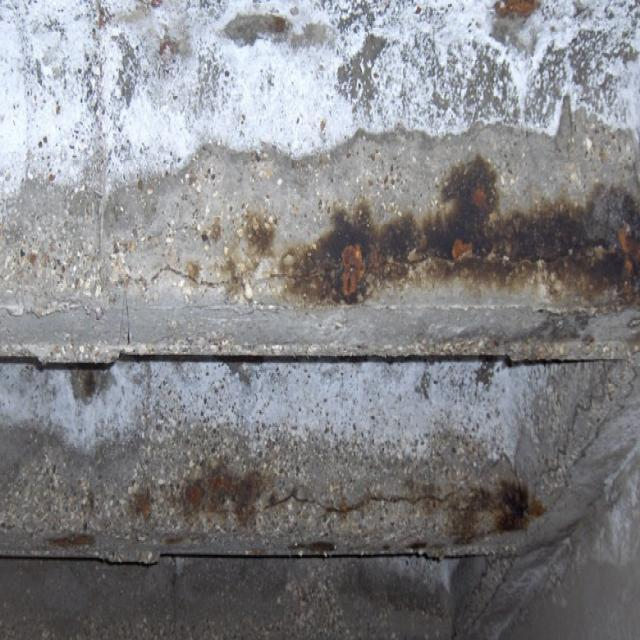spalling: (2, 94, 639, 572)
stain_mould: (284, 172, 639, 307)
